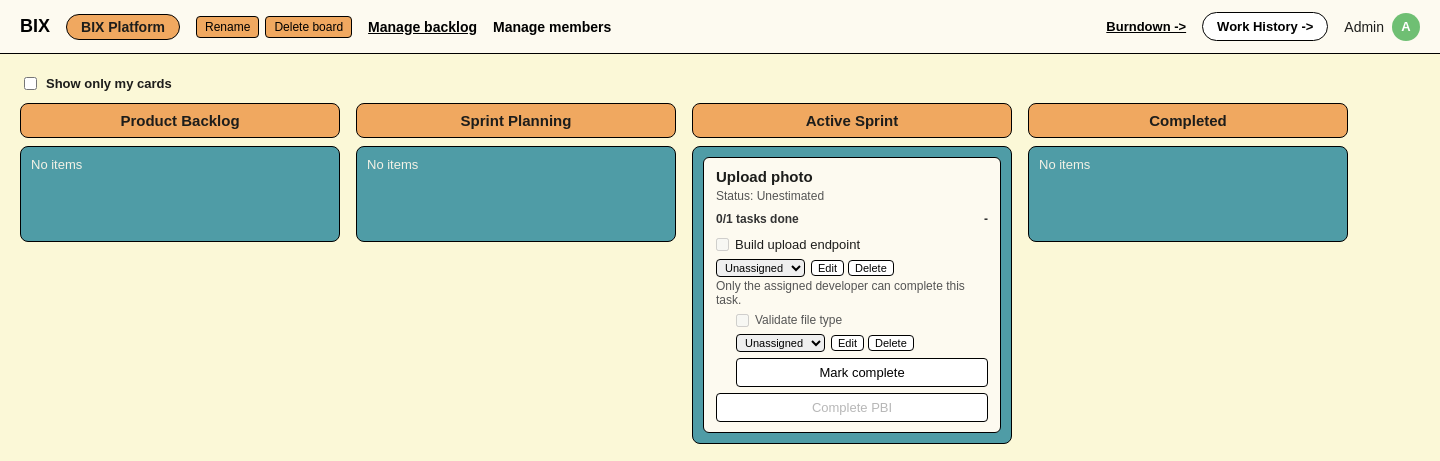
Board page - delete the board (US-04c) › shows the exact 409 message and stays on the board when it still has work
expect the text "BIX Platform" is shown: met, box left=66, top=14, right=180, bottom=40
Click the button "Delete board" at (309, 26), box left=265, top=16, right=352, bottom=38
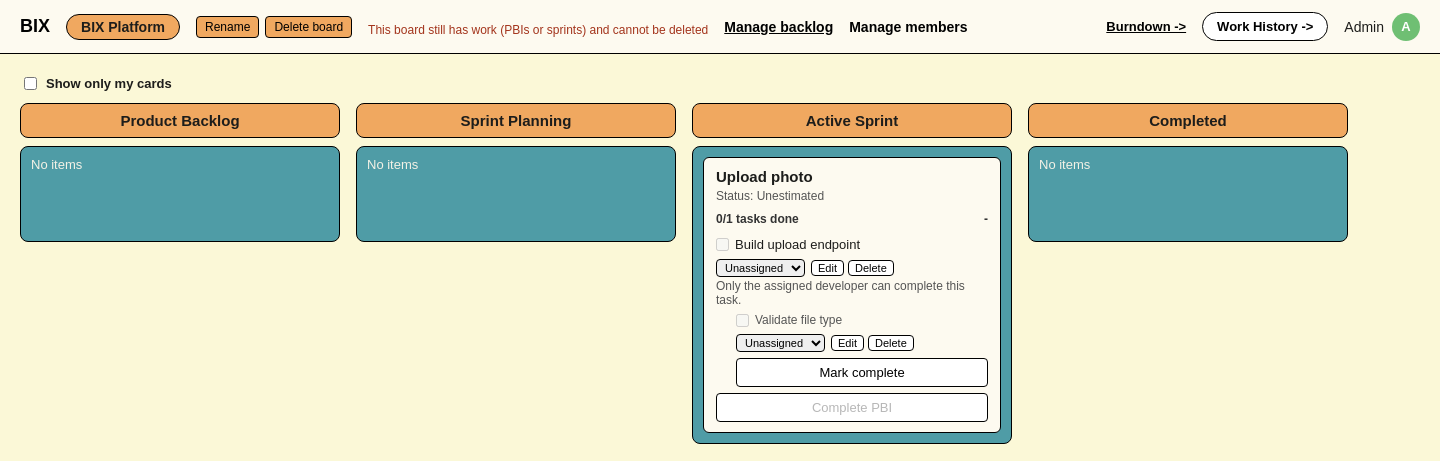
expect the text "BIX Platform" is shown: met, box left=66, top=14, right=180, bottom=40
expect the message reads "This board still has work (PBIs or sprints) and cannot be deleted": met, box left=368, top=22, right=708, bottom=36
